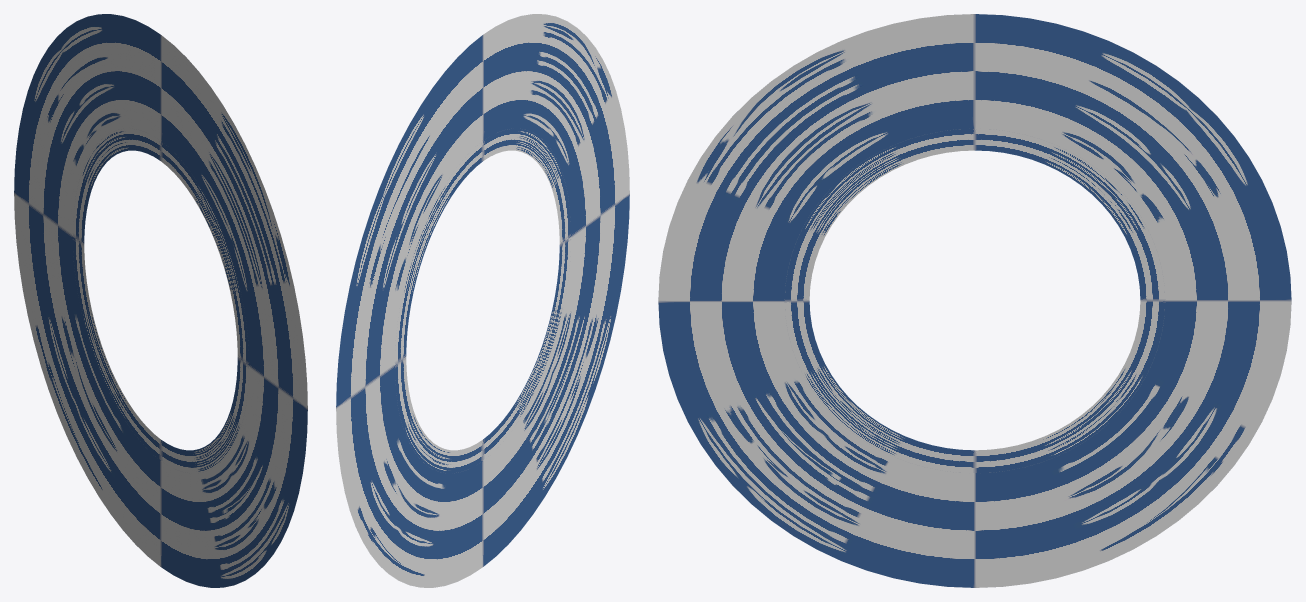
File: Ring16.fbx
3 renders of one model, left to right at view 1: azimuth 30°, elevation 25°; view 2: azimuth 150°, elevation 25°; view 3: azimuth 270°, elevation 25°, orthographic. The views are drawn at different scales.
Visible parts, largest first — view 1: SM_e_cmn_Ring016; view 2: SM_e_cmn_Ring016; view 3: SM_e_cmn_Ring016.
Part boxes in pixels (x1,y1,x2,y2): SM_e_cmn_Ring016: (14, 14, 307, 587); SM_e_cmn_Ring016: (336, 14, 629, 587); SM_e_cmn_Ring016: (658, 14, 1291, 587).
Bounding box in the file's own units: 8.2e-06 × 166 × 166.
